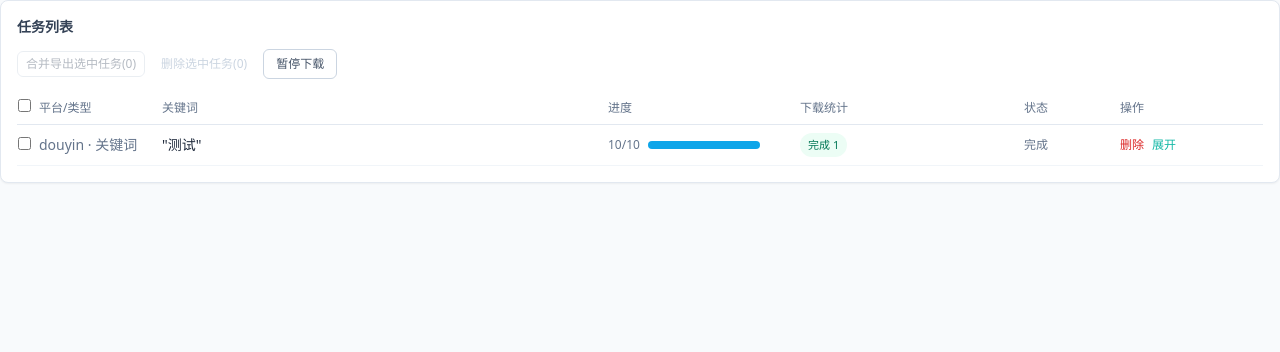
已删除的视频可以恢复下载 › 没有删过的 → 不显示「已删除」按钮
What coordinates should you click on to do the following:
click the button "展开"
I would click on:
 (1164, 145)
Its box is [1152,137,1176,153].
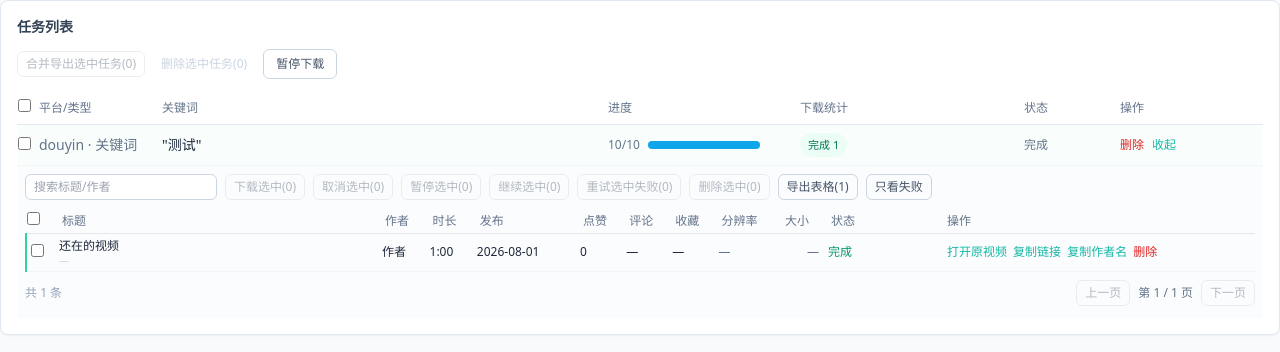
Expected: the text "还在的视频" is shown, [59,237,119,254]
